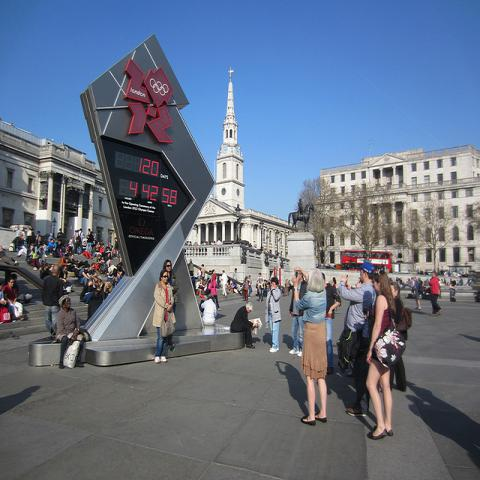bus: (341, 250, 392, 273)
